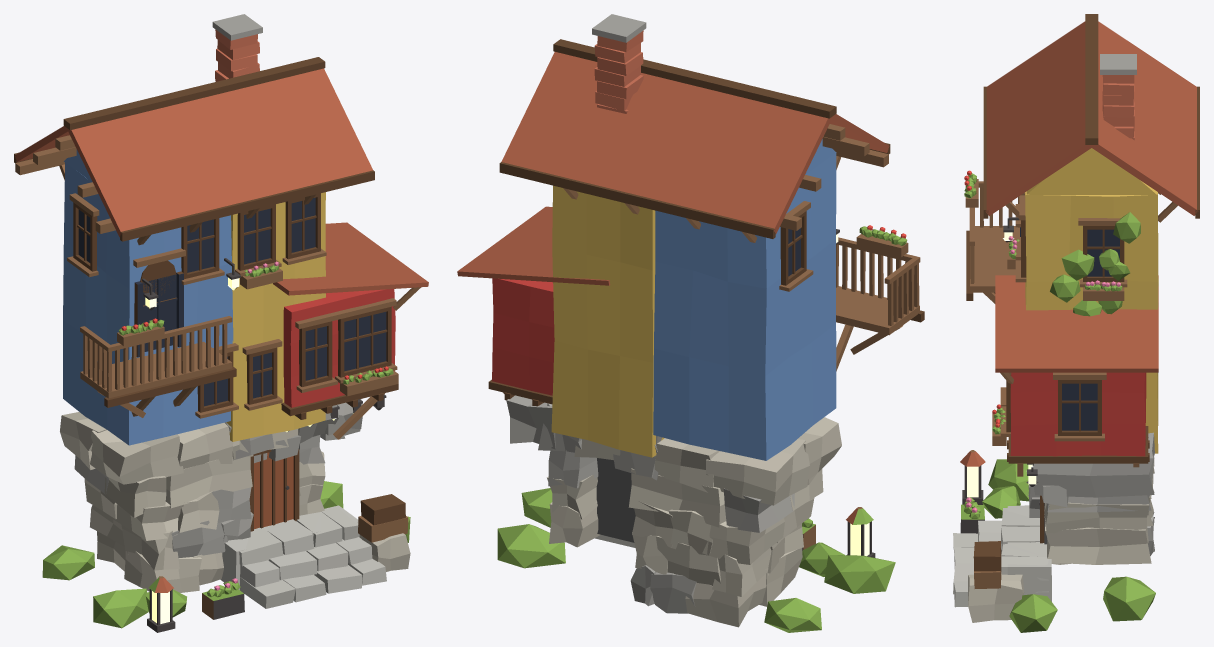
File: project_room.glb
3 views of the same model, side by side, from view 1: azimuth 30°, elevation 25°; view 2: azimuth 150°, elevation 25°; view 3: azimuth 270°, elevation 25° (orthographic). The views are drawn at different scales.
Parts seen in each view (by area): view 1: Roof, Rock_Base, Walls_Main, Stairs, Red_Box, Balcony, Props, Win_RedR, Balcony_Door, Door, Win_YellowL, Win_RedL (+7 smaller); view 2: Walls_Main, Roof, Rock_Base, Red_Box, Props, Balcony, Chimney, Door, Win_BlueSide; view 3: Roof, Red_Box, Walls_Main, Rock_Base, Props, Stairs, Balcony, Win_RedSide, Win_YellowSide, Chimney, Win_RedR, Win_YellowR (+2 smaller).
Part boxes in pixels (box(x1,y1,x2,y2)): Roof: box(14, 57, 374, 245); Rock_Base: box(60, 399, 362, 592); Walls_Main: box(63, 149, 325, 445); Stairs: box(220, 505, 410, 608); Red_Box: box(273, 222, 428, 439); Balcony: box(80, 316, 236, 417); Props: box(42, 481, 410, 632); Win_RedR: box(334, 298, 398, 396); Balcony_Door: box(133, 248, 185, 357); Door: box(249, 449, 299, 531); Win_YellowL: box(235, 204, 282, 289); Win_RedL: box(295, 312, 337, 392); Walls_Main: box(551, 139, 836, 460); Roof: box(499, 39, 890, 242); Rock_Base: box(506, 395, 841, 627); Red_Box: box(457, 206, 610, 406); Props: box(497, 488, 895, 632); Balcony: box(836, 225, 924, 371); Chimney: box(592, 14, 646, 113); Door: box(596, 458, 635, 542); Win_BlueSide: box(779, 201, 813, 291); Roof: box(983, 14, 1199, 222); Red_Box: box(995, 275, 1158, 476); Walls_Main: box(1025, 148, 1158, 453); Rock_Base: box(1028, 432, 1154, 564); Props: box(960, 212, 1155, 632); Stairs: box(953, 505, 1051, 622); Balcony: box(964, 170, 1019, 303); Win_RedSide: box(1053, 372, 1106, 441); Win_YellowSide: box(1078, 218, 1127, 300); Chimney: box(1100, 54, 1136, 140); Win_RedR: box(992, 372, 1011, 445); Win_YellowR: box(1015, 195, 1026, 282).
Bounding box in the file's own units: 6.55 × 9.64 × 4.15.
